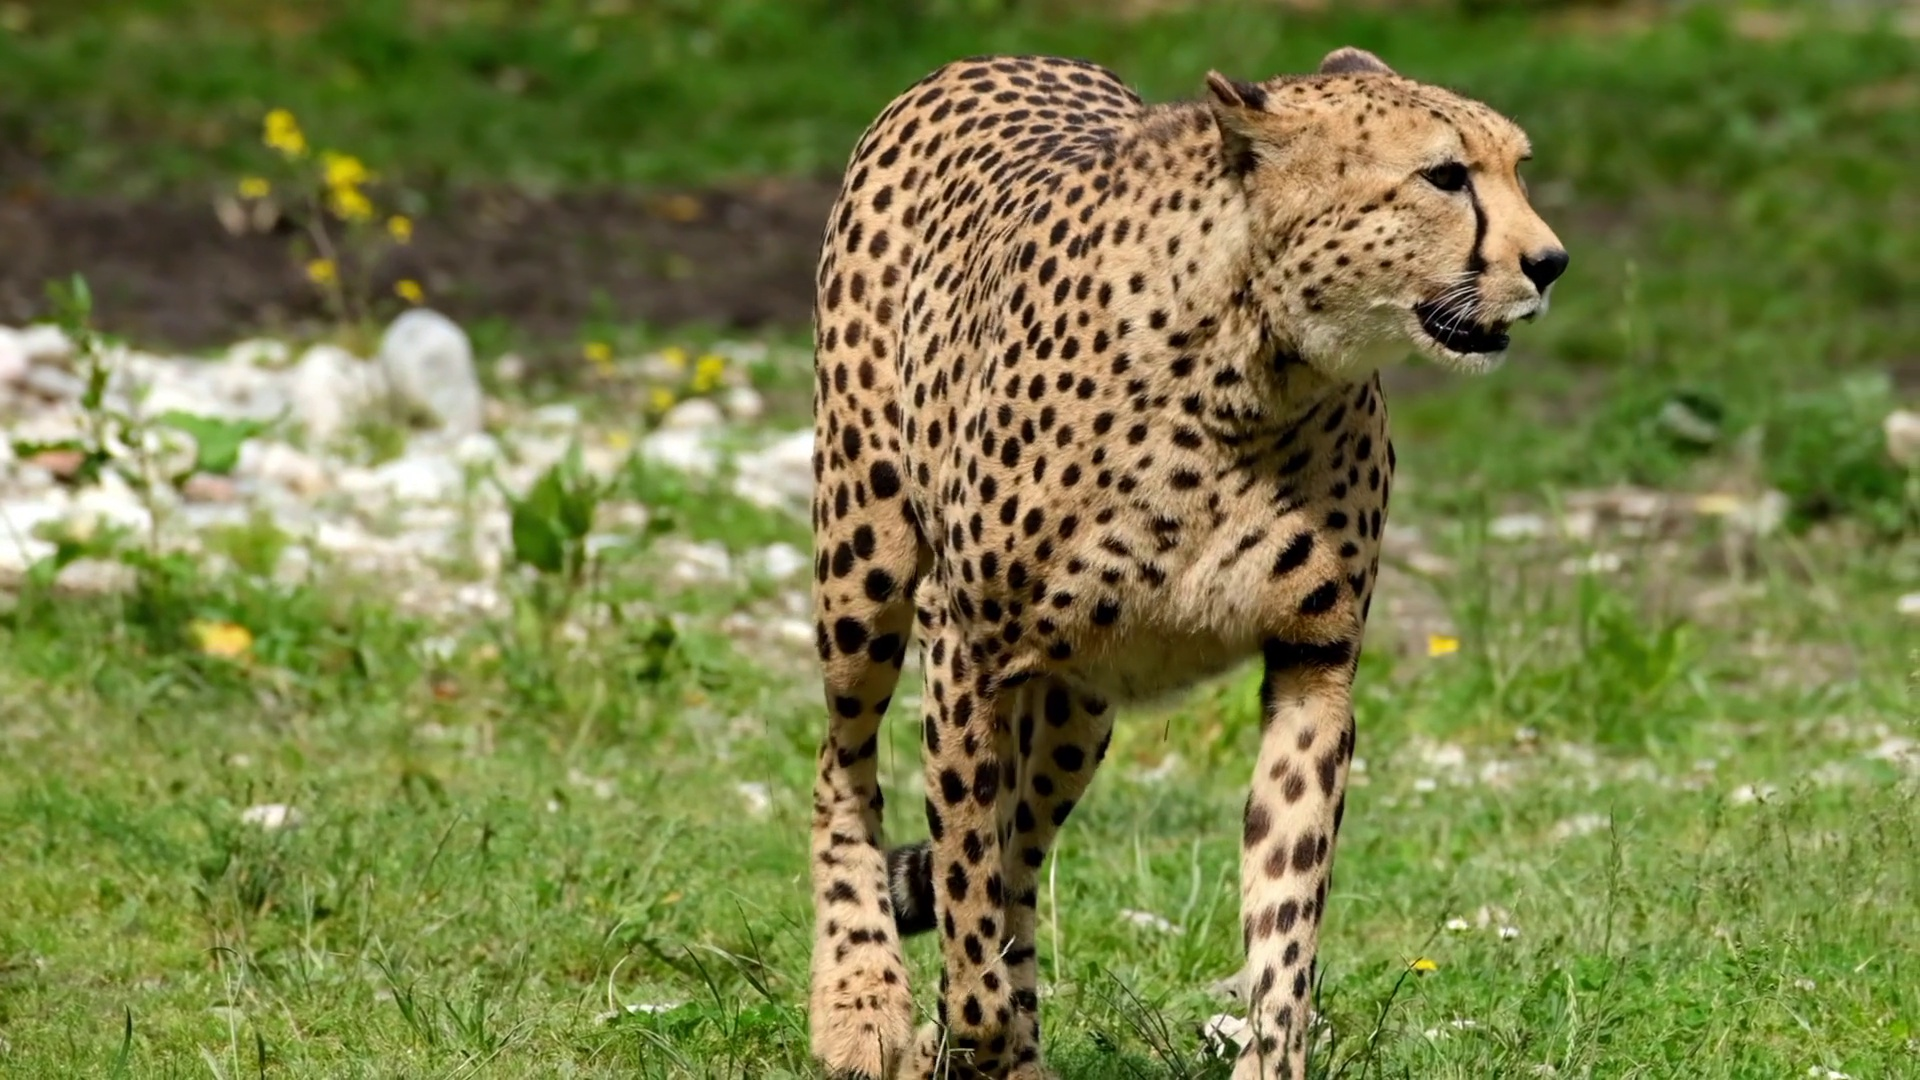Cheetah: (796, 36, 1577, 1080)
